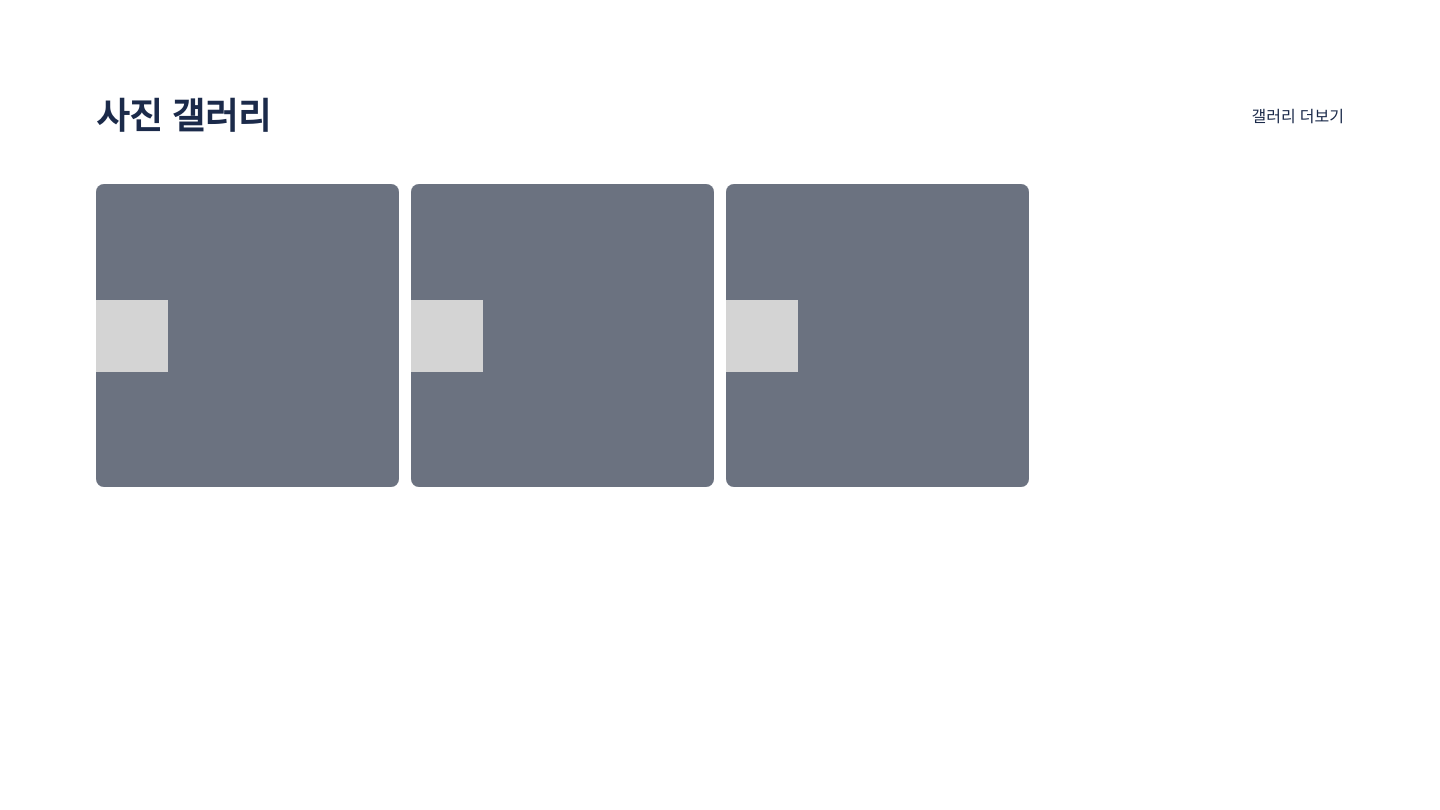
Test: GalleryPreview - 3-5-C. 라이트박스 연동 › 사진 클릭 시 Lightbox가 열린다
The image size is (1440, 810).
Click the 1st button: coordinates (132, 336) [96,184,399,487]
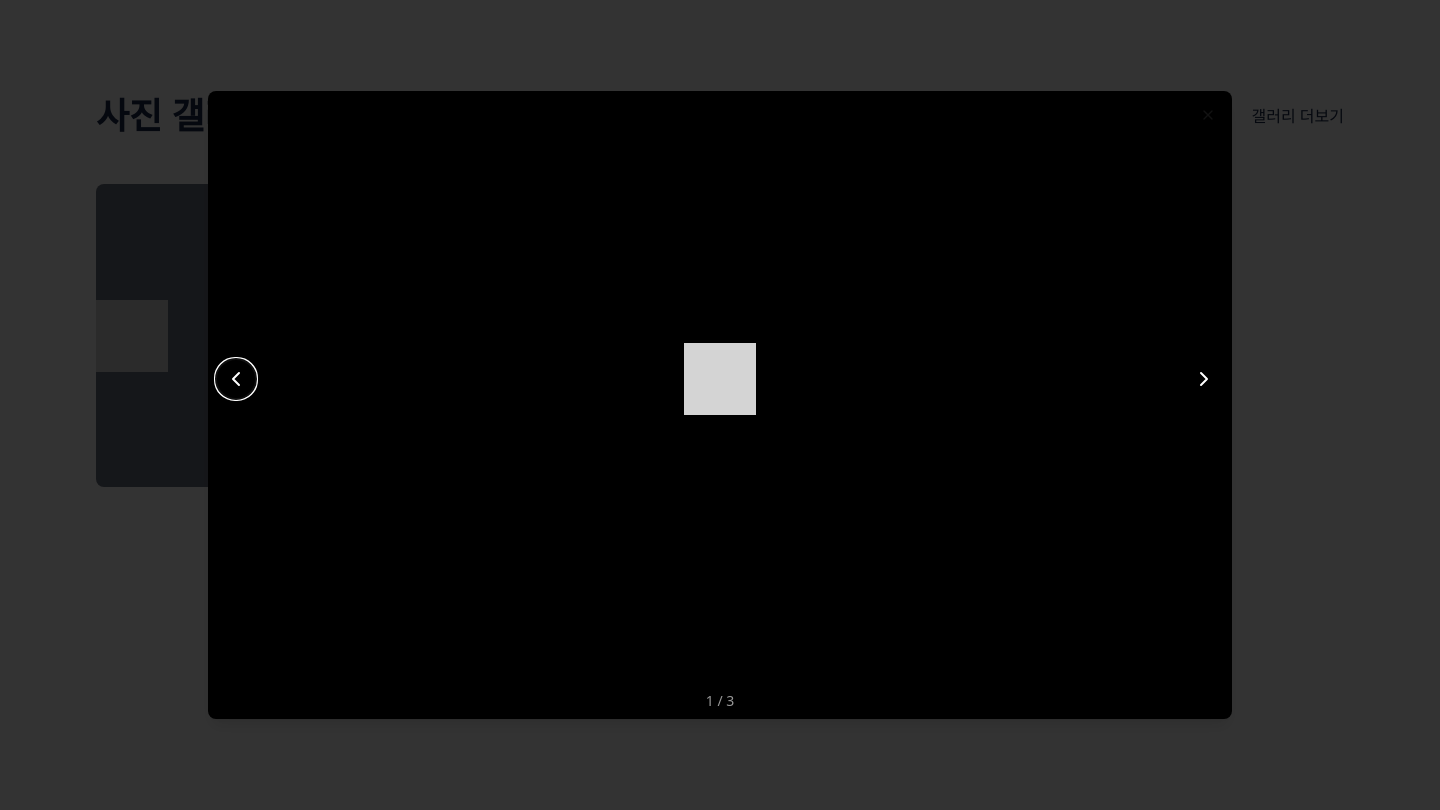
Expected: the button named "다음" is shown, [1184,359,1224,399]
